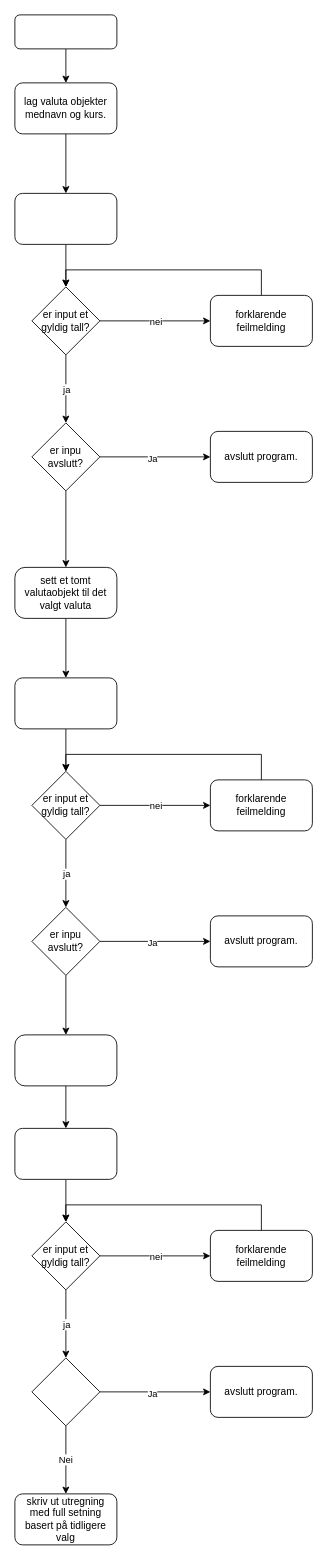
The diagram is 327 pixels wide and 1560 high, and some of its shapes have lost their labels. Here are the shapes that lost their labels. From the top down, the centre of each, then its label:
At point 65,31: "Main".
At point 65,218: "skriv ut valg av valuta".
At point 65,703: "skriv til eller fra nok".
At point 65,1060: "sett en variabel til om det er til eller fra nok".
At point 65,1153: "skriv inn antall som skal regnes om".
At point 65,1391: "er input avslutt?".
